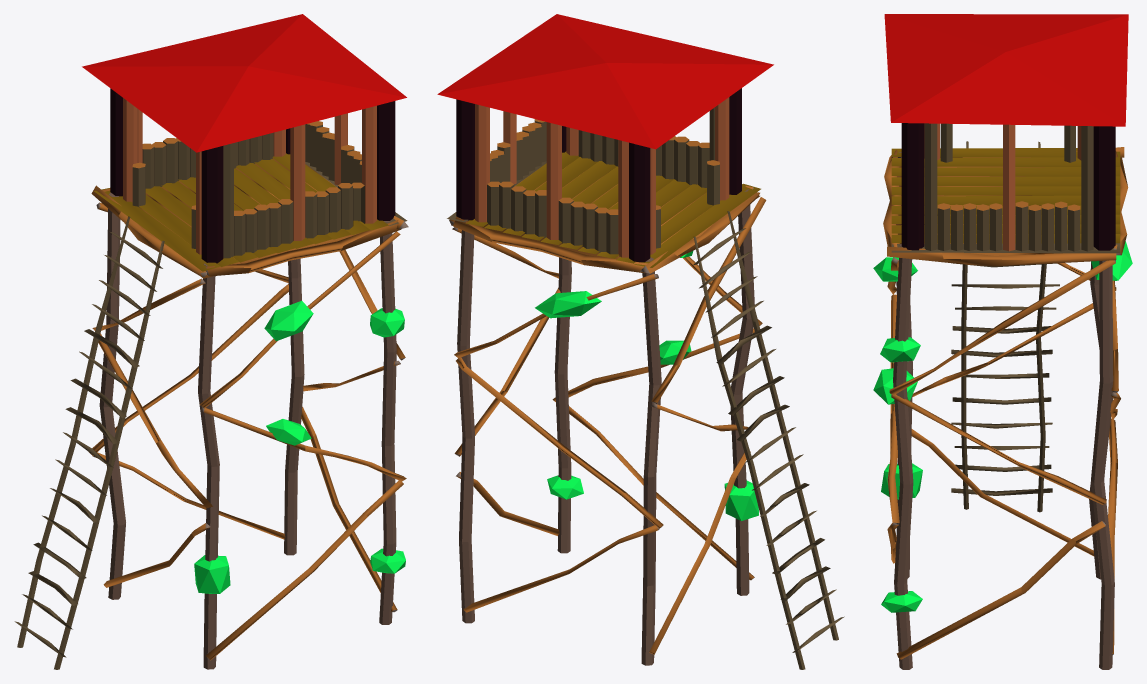
The model's file is WatchTower.obj.
3 renders of one model, left to right at view 1: azimuth 30°, elevation 25°; view 2: azimuth 150°, elevation 25°; view 3: azimuth 270°, elevation 25°, orthographic. The views are drawn at different scales.
Parts seen in each view (by area): view 1: Watchtower_Cylinder.001, Ladder_Cylinder.002; view 2: Watchtower_Cylinder.001, Ladder_Cylinder.002; view 3: Watchtower_Cylinder.001, Ladder_Cylinder.002.
Part boxes in pixels (x1,y1,x2,y2): Watchtower_Cylinder.001: (82, 14, 408, 669); Ladder_Cylinder.002: (14, 216, 164, 669); Watchtower_Cylinder.001: (437, 14, 773, 665); Ladder_Cylinder.002: (693, 211, 844, 669); Watchtower_Cylinder.001: (873, 14, 1132, 669); Ladder_Cylinder.002: (951, 141, 1059, 512).
Size of the model in its own units: 84.38 by 134 by 55.4.
1 material, 1 textured.
